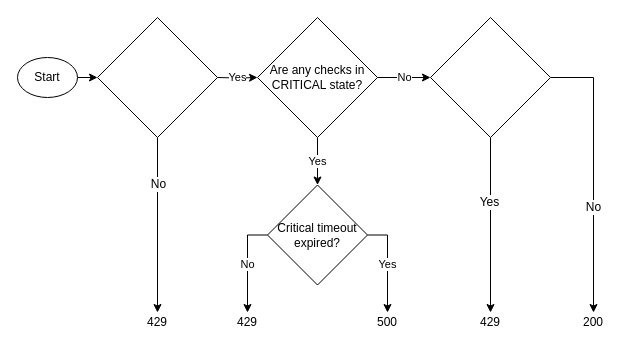
Some shapes in this 631 by 350 pixel diagram are drawn without their labels. The box of each missing label's shape, as (x1, y1, x2, y2) in pixels:
Are any checks in WARNING state?: (430, 16, 550, 138)
Have all of the checks run at least once?: (96, 16, 218, 138)
